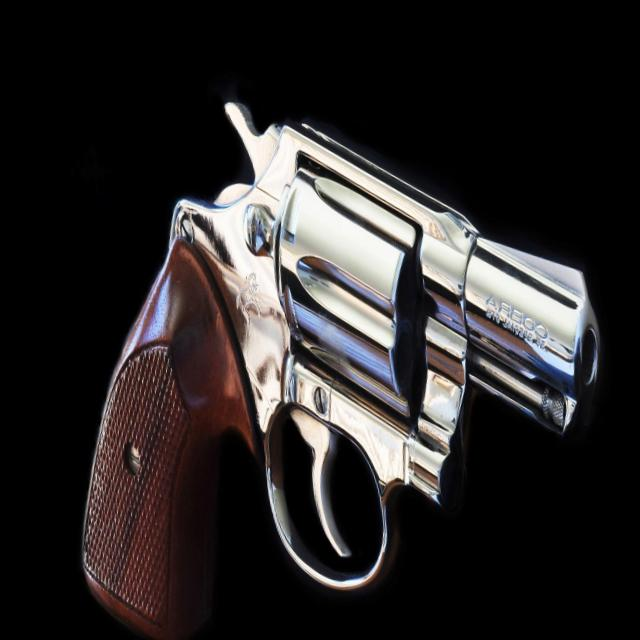handgun: (37, 85, 615, 640)
